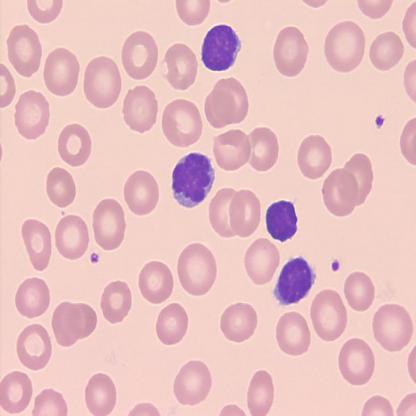Lymphocyte: (172, 152, 214, 210), (274, 255, 316, 306), (201, 23, 242, 73), (266, 199, 298, 242)
